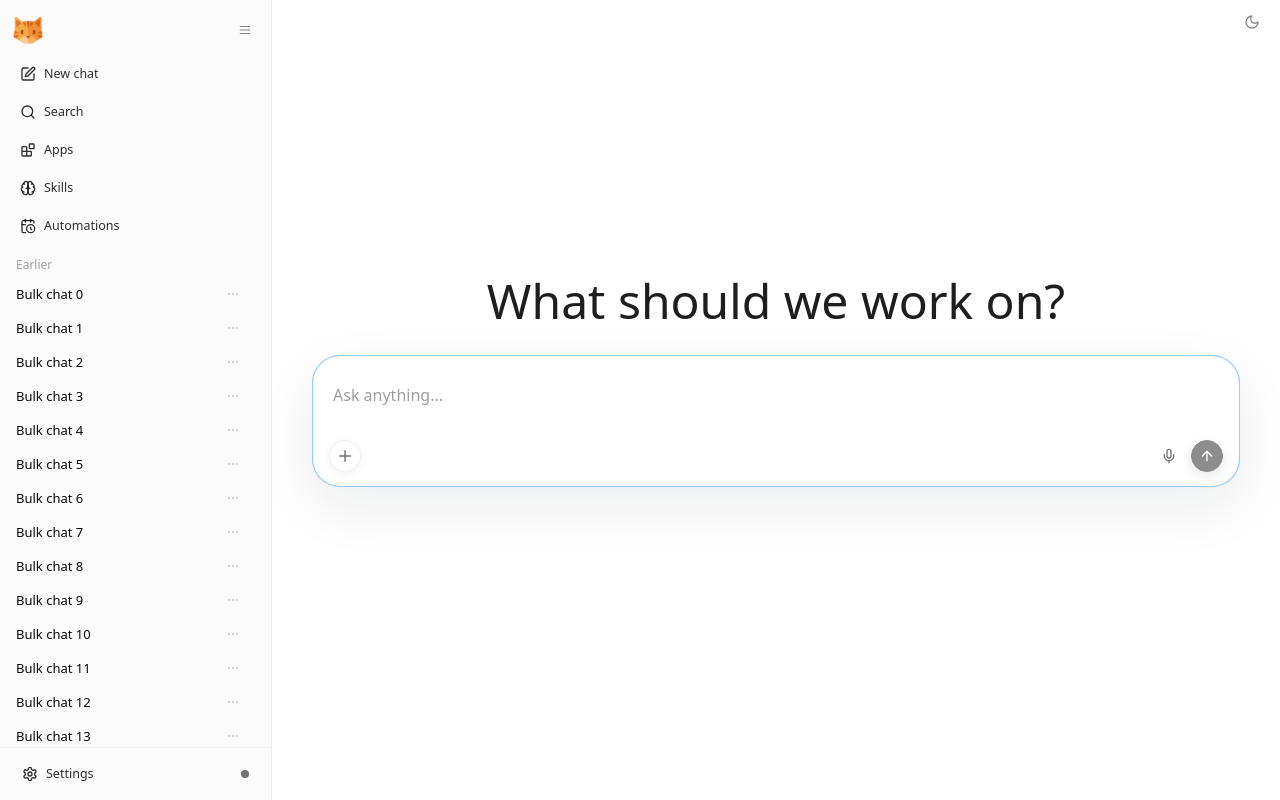
Test case: App layout › keeps large sidebars light while search still covers every chat
The image size is (1280, 800).
expect the button "Bulk chat 0" is shown: met, box [16,278,189,310]
expect the text "Hidden target" is not shown: met
Click the button "Search": (136, 112) [8,96,263,128]
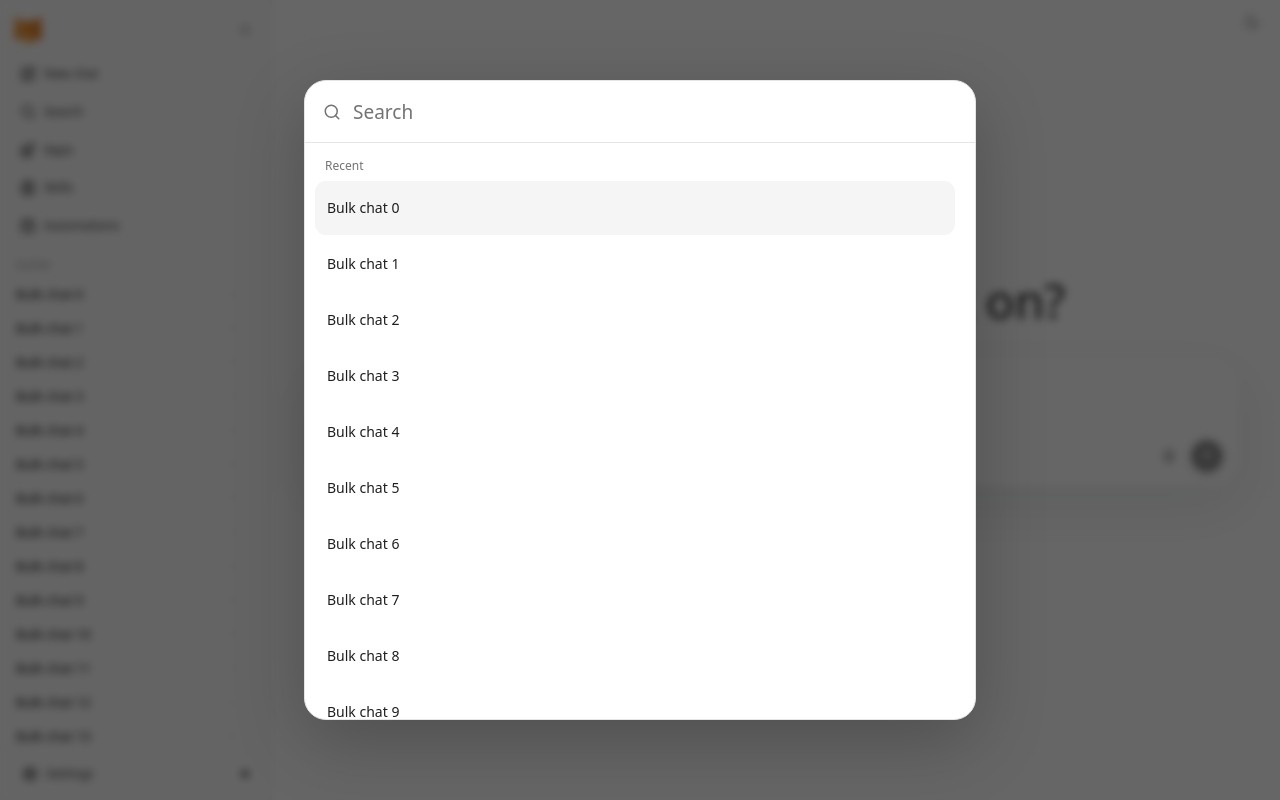
In the field labelled "Search": (655, 112) [353,81,957,142], type "hidden"
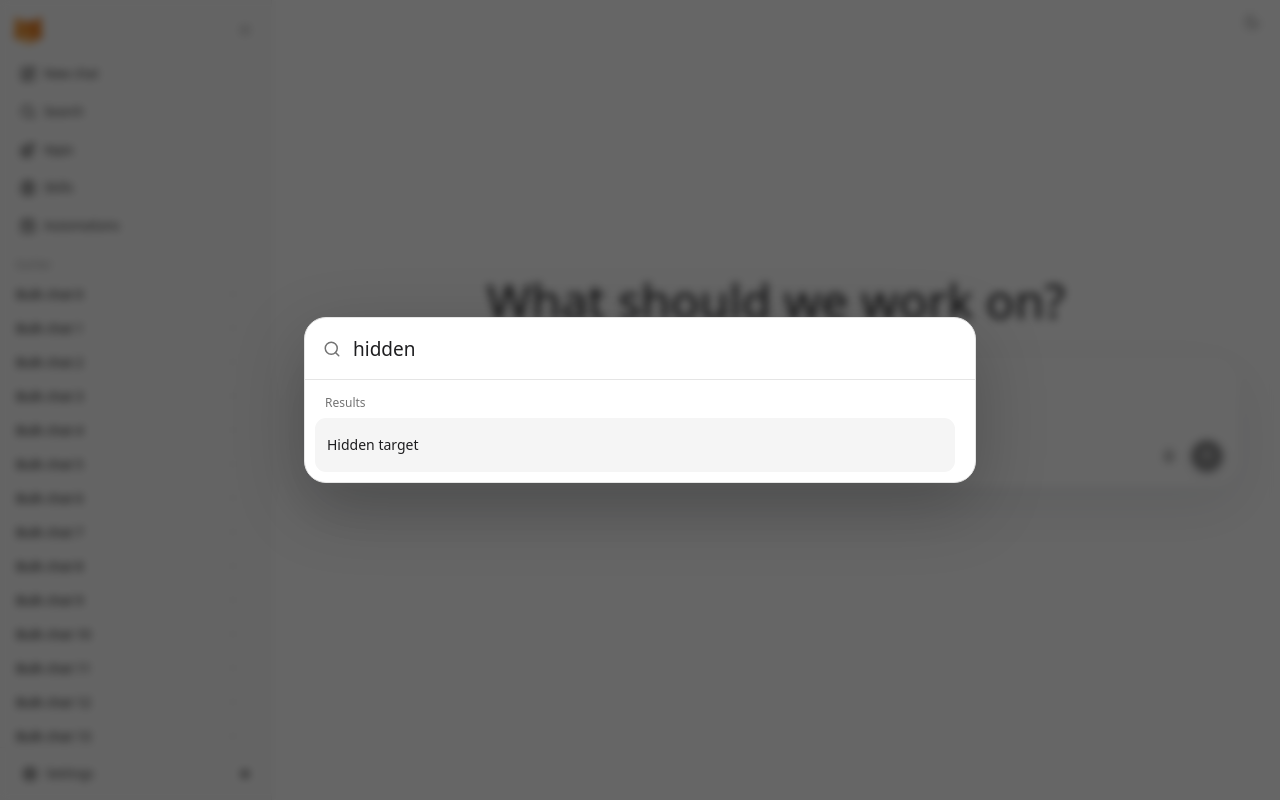
expect the text "Hidden target" is shown: met, box [327,435,418,454]
